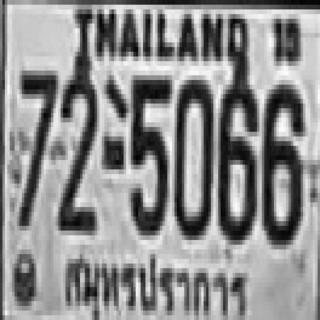N00: (172, 75, 211, 235)
N02: (57, 66, 96, 231)
N05: (128, 70, 170, 230)
N06: (259, 80, 301, 240), (216, 75, 255, 240)
N07: (17, 66, 56, 226)
P57: (58, 242, 255, 320)
